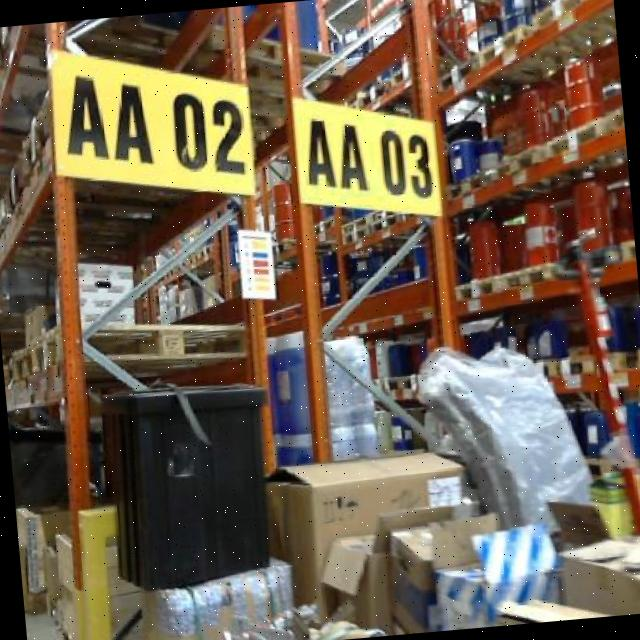pallet: (1, 322, 78, 381), (450, 260, 565, 298), (466, 17, 533, 81), (538, 109, 613, 165), (483, 142, 550, 189), (518, 0, 597, 37)
